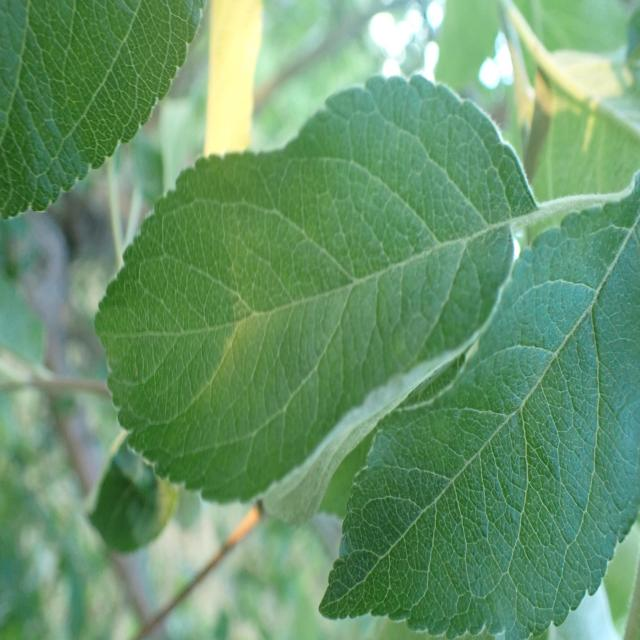healthy: (94, 72, 539, 523), (317, 167, 640, 640), (0, 0, 207, 220)
